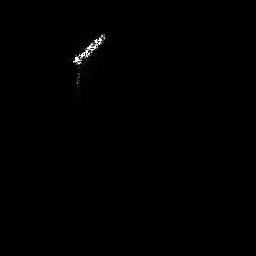ship: (67, 29, 109, 68)
